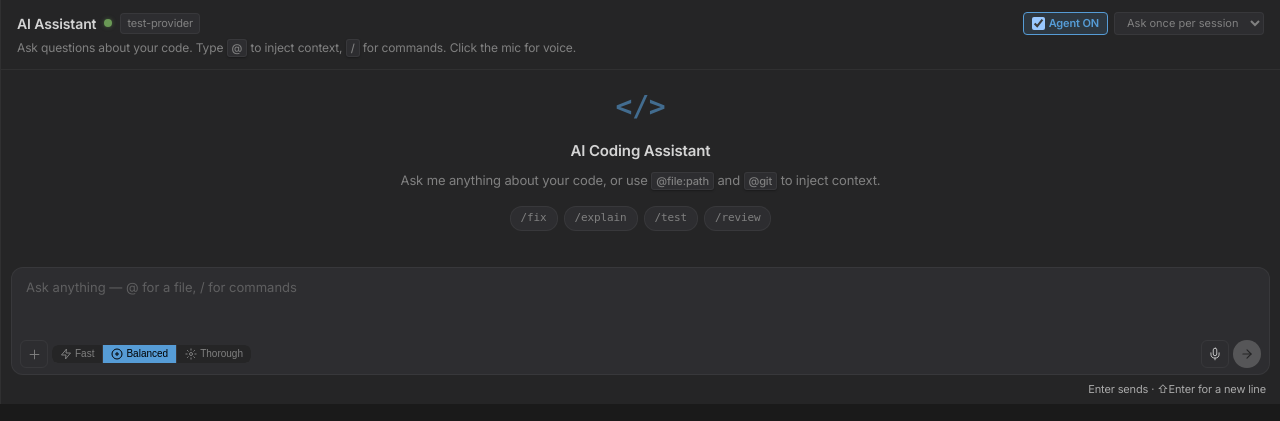
Test: AIChat circuit-breaker notices › reports a health warning without claiming the run ended
Type "build the thing" into the text box with placeholder "Ask anything — @ for a file, / for commands" at (640, 302), box [12,268,1269,336]
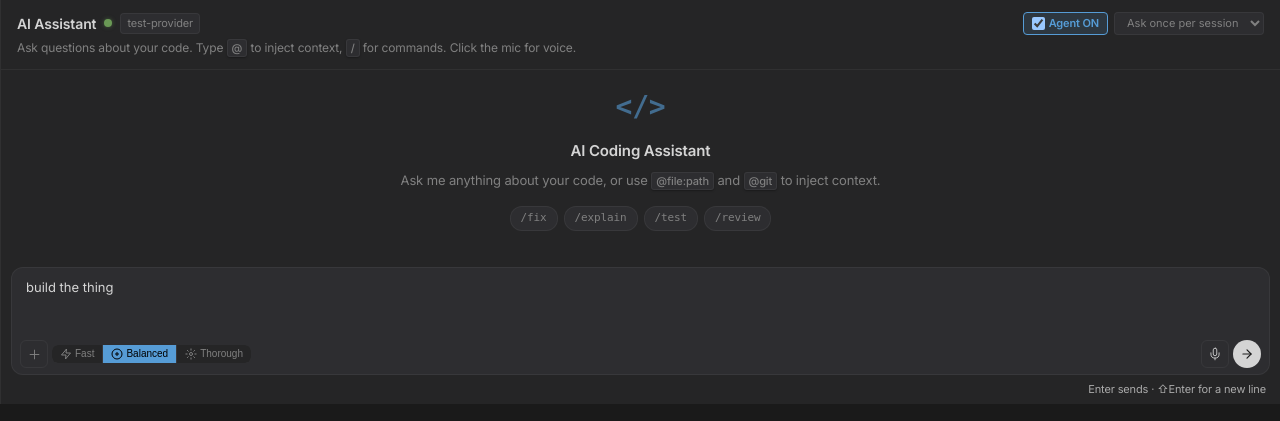
Press Enter in the text box with placeholder "Ask anything — @ for a file, / for commands", box [12,268,1269,336]
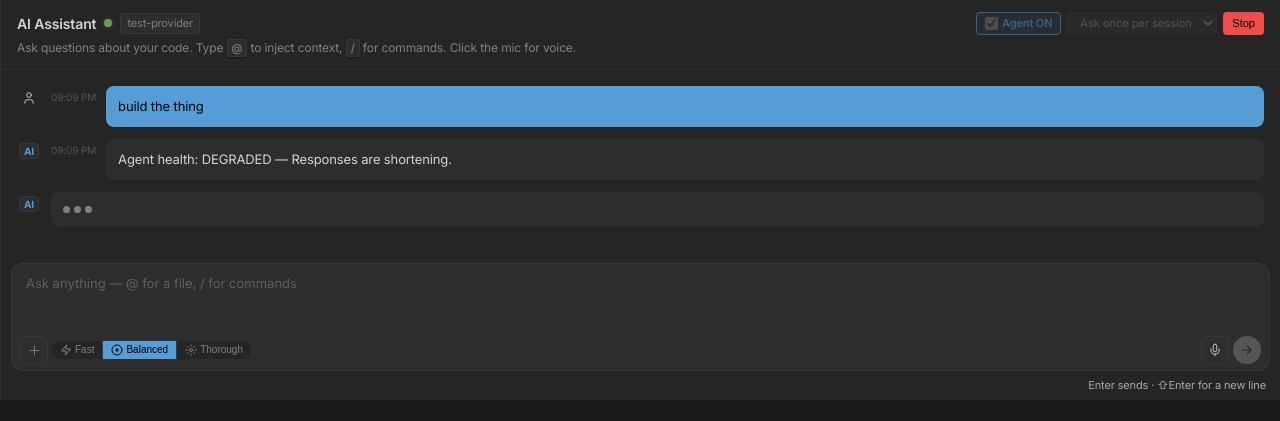
Now the text "Agent health: DEGRADED — Responses are shortening." is shown, box [118,151,452,167]
